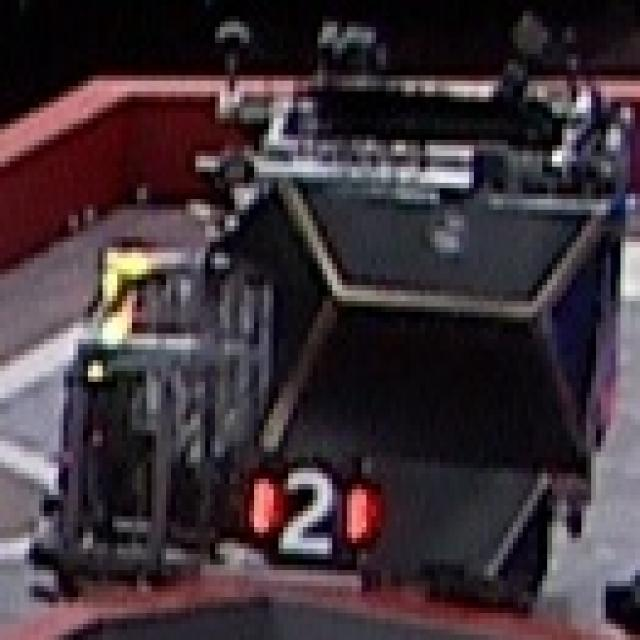R2: (222, 449, 379, 573)
